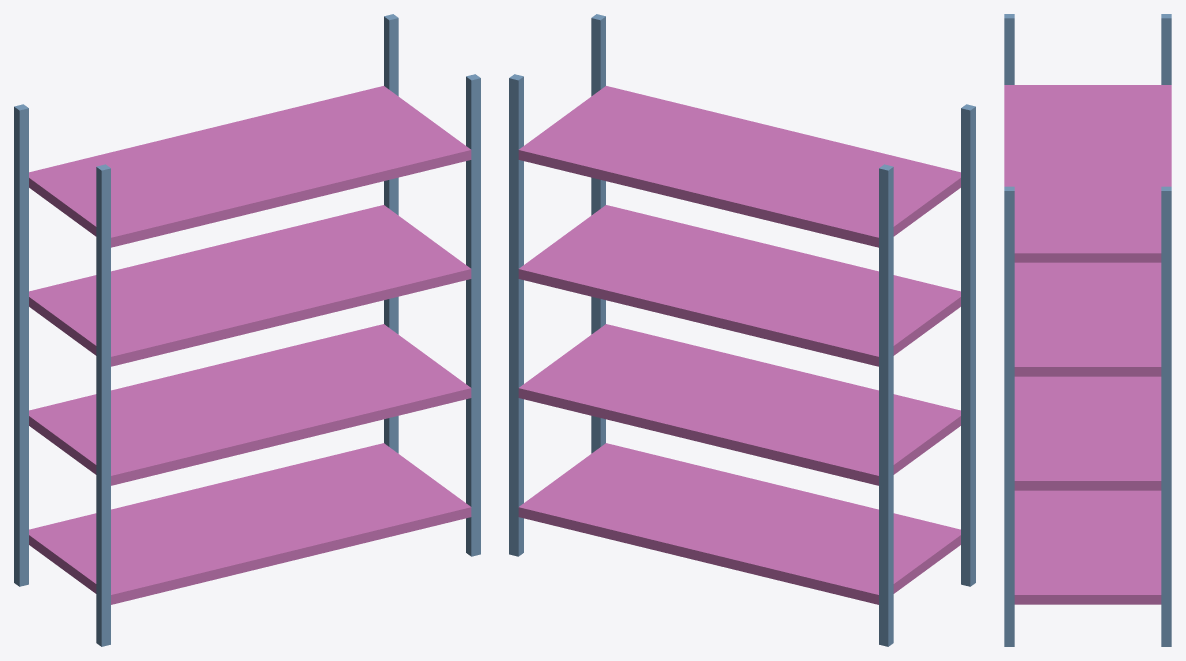
File: Shelf_01.fbx
3 views of the same model, side by side, from view 1: azimuth 30°, elevation 25°; view 2: azimuth 150°, elevation 25°; view 3: azimuth 270°, elevation 25° (orthographic). The views are drawn at different scales.
Visible parts, largest first — view 1: Shelf004, Shelf01, Shelf002, Shelf003, Leg003, Leg01, Leg002, Leg004; view 2: Shelf004, Shelf01, Shelf002, Shelf003, Leg01, Leg003, Leg004, Leg002; view 3: Shelf004, Shelf01, Shelf002, Shelf003, Leg002, Leg004, Leg01, Leg003.
Boxes of the visible parts, x1,y1,x2,y2 form: Shelf004: (29, 86, 471, 247); Shelf01: (29, 443, 471, 604); Shelf002: (29, 324, 471, 485); Shelf003: (29, 205, 471, 366); Leg003: (14, 104, 28, 586); Leg01: (96, 164, 110, 646); Leg002: (466, 74, 480, 556); Leg004: (384, 14, 398, 453); Shelf004: (518, 86, 960, 247); Shelf01: (518, 443, 960, 604); Shelf002: (518, 324, 960, 485); Shelf003: (518, 205, 960, 366); Leg01: (961, 104, 975, 586); Leg003: (879, 164, 893, 646); Leg004: (509, 74, 523, 556); Leg002: (591, 14, 605, 453); Shelf004: (1004, 85, 1171, 262); Shelf01: (1014, 490, 1161, 604); Shelf002: (1014, 376, 1161, 490); Shelf003: (1014, 262, 1161, 376); Leg002: (1004, 186, 1014, 646); Leg004: (1161, 186, 1171, 646); Leg01: (1004, 14, 1014, 84); Leg003: (1161, 14, 1171, 84).
Size of the model in its own units: 100 by 120 by 40.
